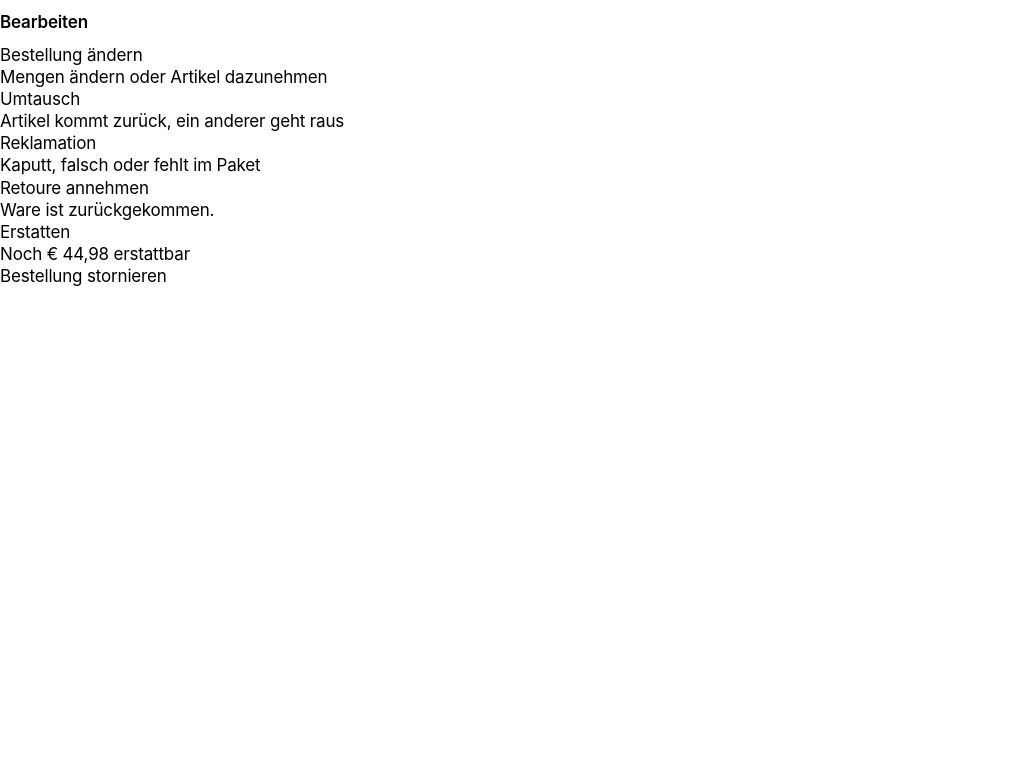
Test: refund › 'Alles' puts the maximum into the field
Click the button "Erstatten Noch € 44,98 erstattbar". click: x=35, y=232
box: [0,221,1023,265]
(page scrolled)
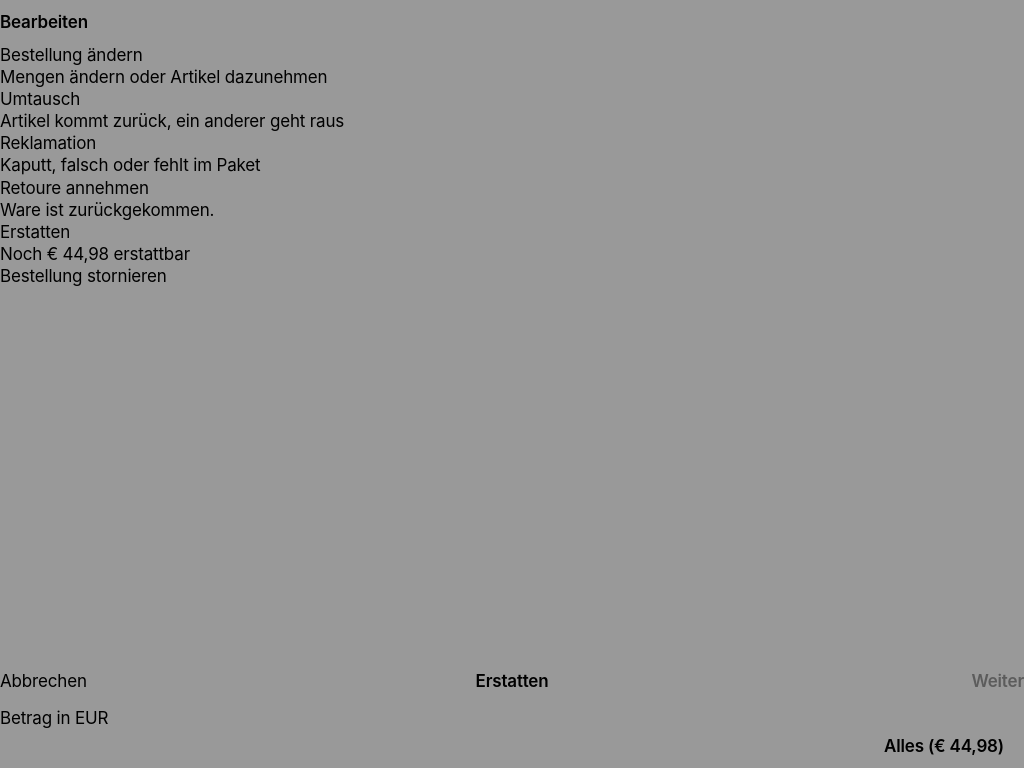
Click the button "Alles (€ 44,98)". click: x=944, y=746
box: [872,729,1016,763]
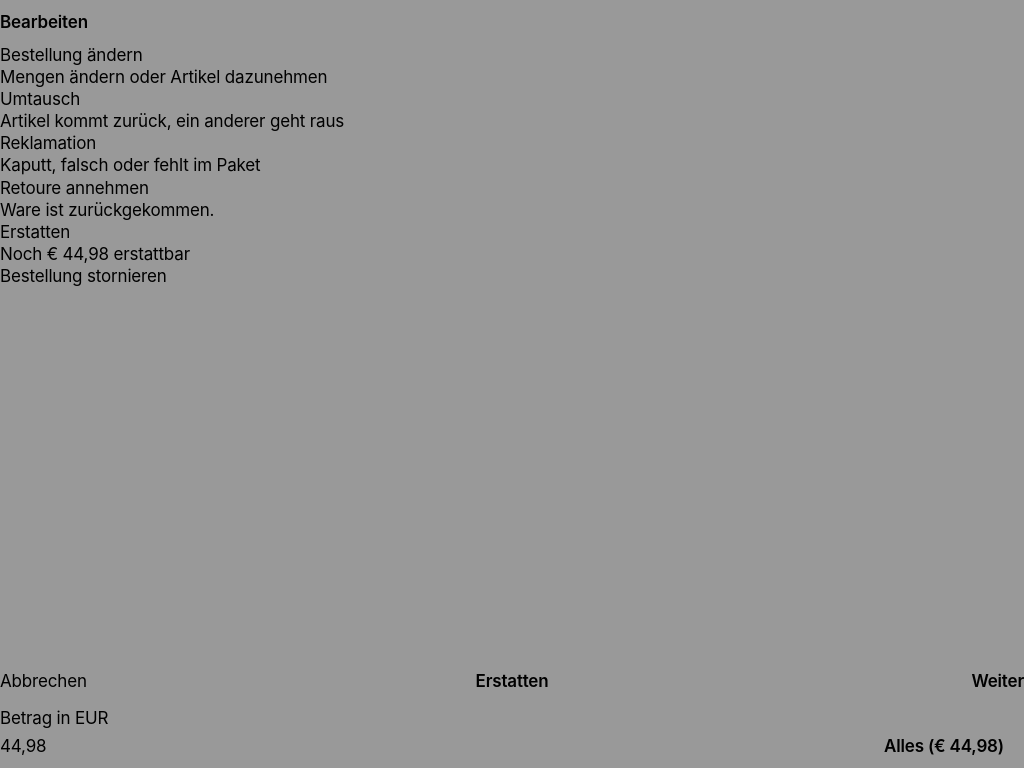
Now the field labelled "Betrag in EUR" holds "44,98", box [0,735,1023,757]
